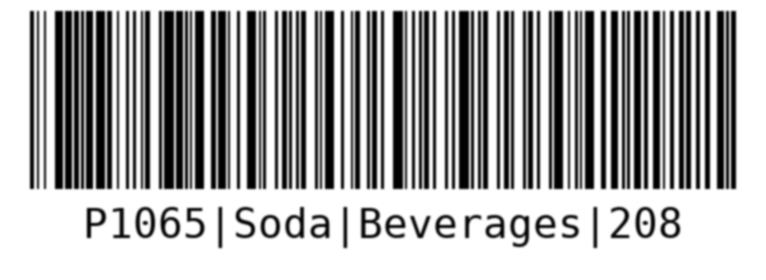milk: (19, 7, 750, 260)
